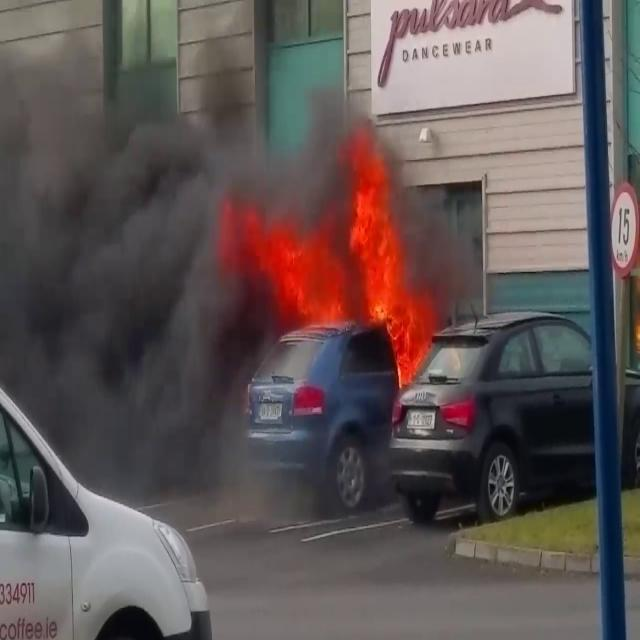Fire: (246, 146, 439, 384)
Smoke: (0, 4, 270, 447)
